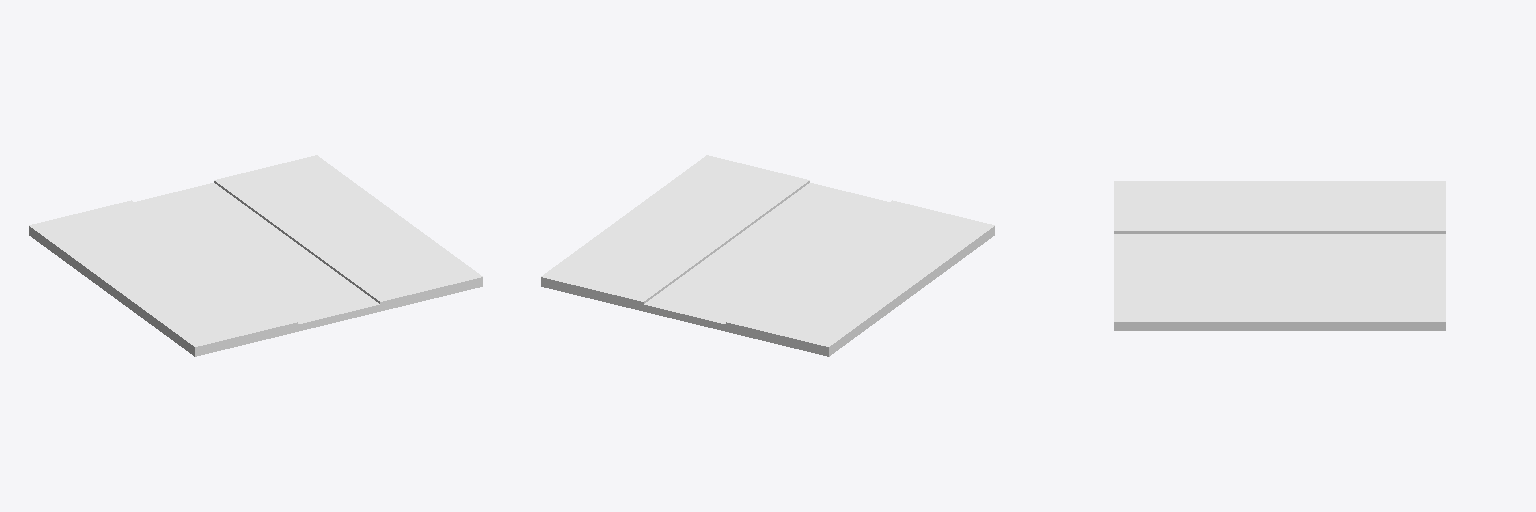
File: roads-4.obj
The picture shows the model from 3 angles: view 1: azimuth 30°, elevation 25°; view 2: azimuth 150°, elevation 25°; view 3: azimuth 270°, elevation 25°; orthographic projection.
Visible parts, largest first — view 1: object 1; view 2: object 1; view 3: object 1.
Boxes of the visible parts, x1,y1,x2,y2 form: object 1: [29, 155, 482, 356]; object 1: [541, 155, 994, 356]; object 1: [1114, 181, 1445, 330].
Bounding box in the file's own units: 12.6 × 0.4 × 12.6.